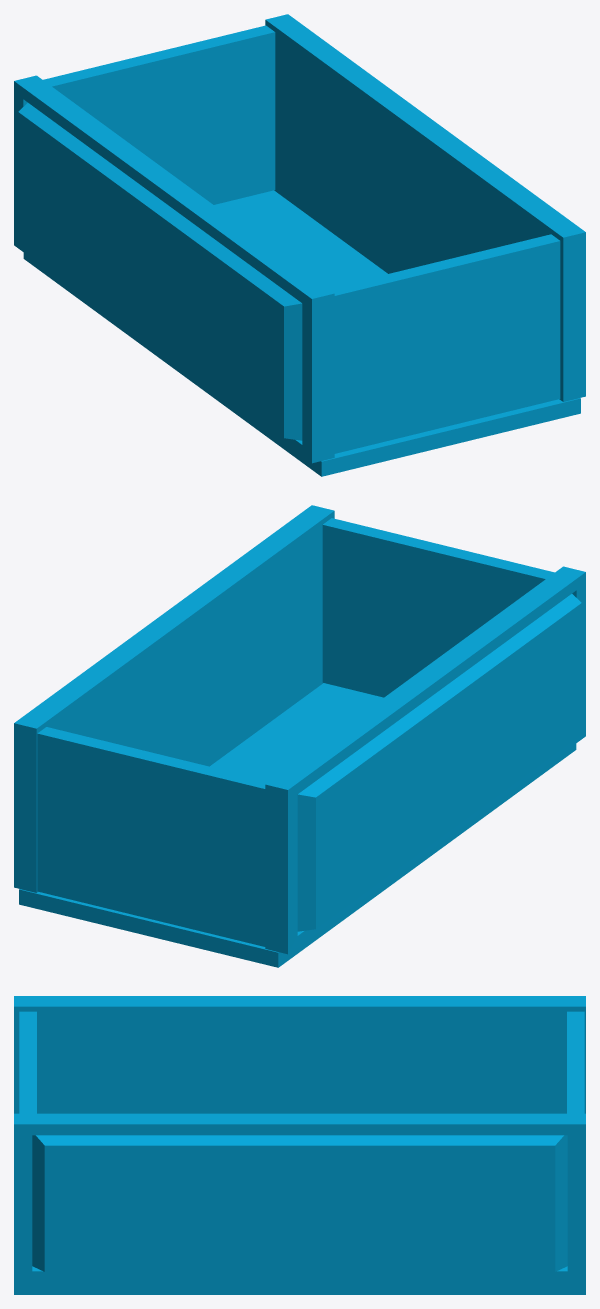
Rendered from Drawer_02.fbx.
The picture shows the model from 3 angles, top to bottom: view 1: azimuth 30°, elevation 25°; view 2: azimuth 150°, elevation 25°; view 3: azimuth 270°, elevation 25°; orthographic projection. The views are drawn at different scales.
Parts seen in each view (by area): view 1: Drawer_02; view 2: Drawer_02; view 3: Drawer_02.
Part boxes in pixels (x1,y1,x2,y2): Drawer_02: [14, 14, 585, 476]; Drawer_02: [14, 505, 585, 967]; Drawer_02: [14, 996, 585, 1294].
Size of the model in its own units: 44.15 by 25.53 by 76.54.
